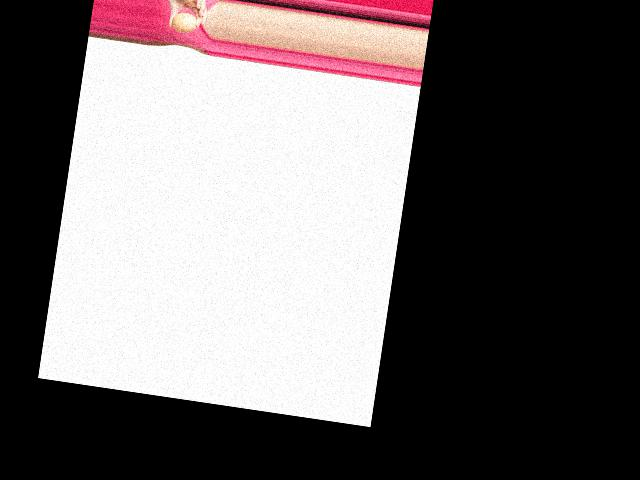egg: (170, 10, 198, 34)
